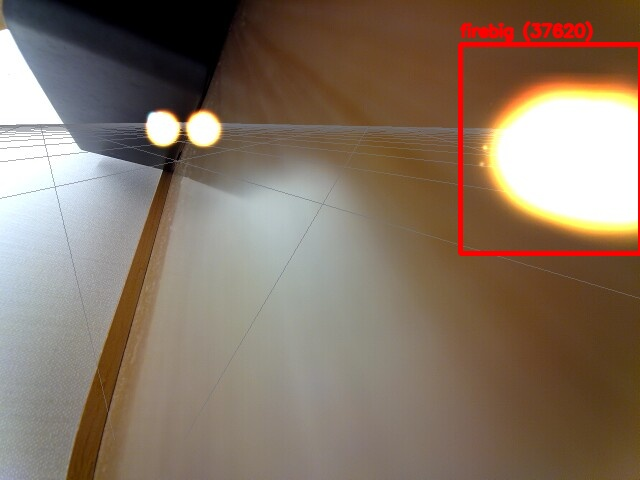firebig: (460, 44, 640, 253)
